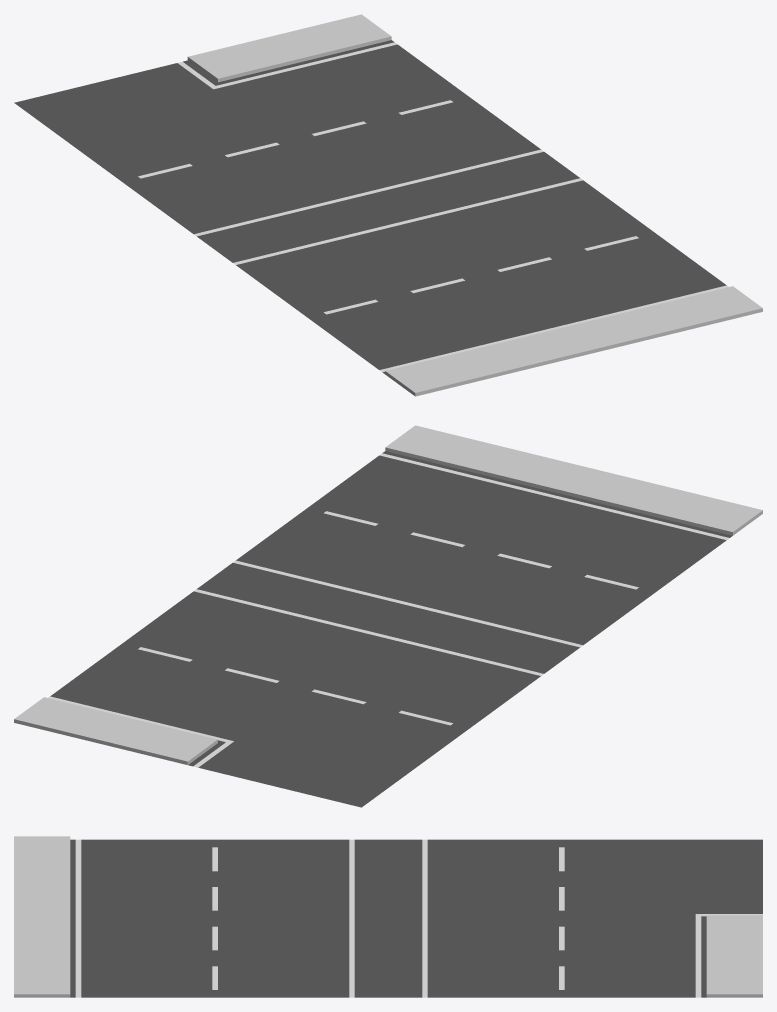
The model's file is SPW_Urban_Road 4way_08.gltf.
3 renders of one model, top to bottom at view 1: azimuth 30°, elevation 25°; view 2: azimuth 150°, elevation 25°; view 3: azimuth 270°, elevation 25°, orthographic. The views are drawn at different scales.
Visible parts, largest first — view 1: SPW_Urban_Road_4way_08; view 2: SPW_Urban_Road_4way_08; view 3: SPW_Urban_Road_4way_08.
Part boxes in pixels (x1,y1,x2,y2): SPW_Urban_Road_4way_08: (14, 14, 762, 396); SPW_Urban_Road_4way_08: (14, 425, 762, 807); SPW_Urban_Road_4way_08: (14, 836, 762, 997).
Bounding box in the file's own units: 787 × 7.87 × 1575.
1 material, 1 textured.
